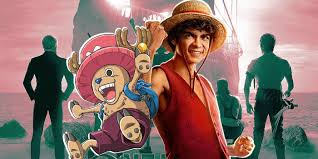chopper: (61, 27, 151, 108)
luffy: (160, 1, 227, 65)
